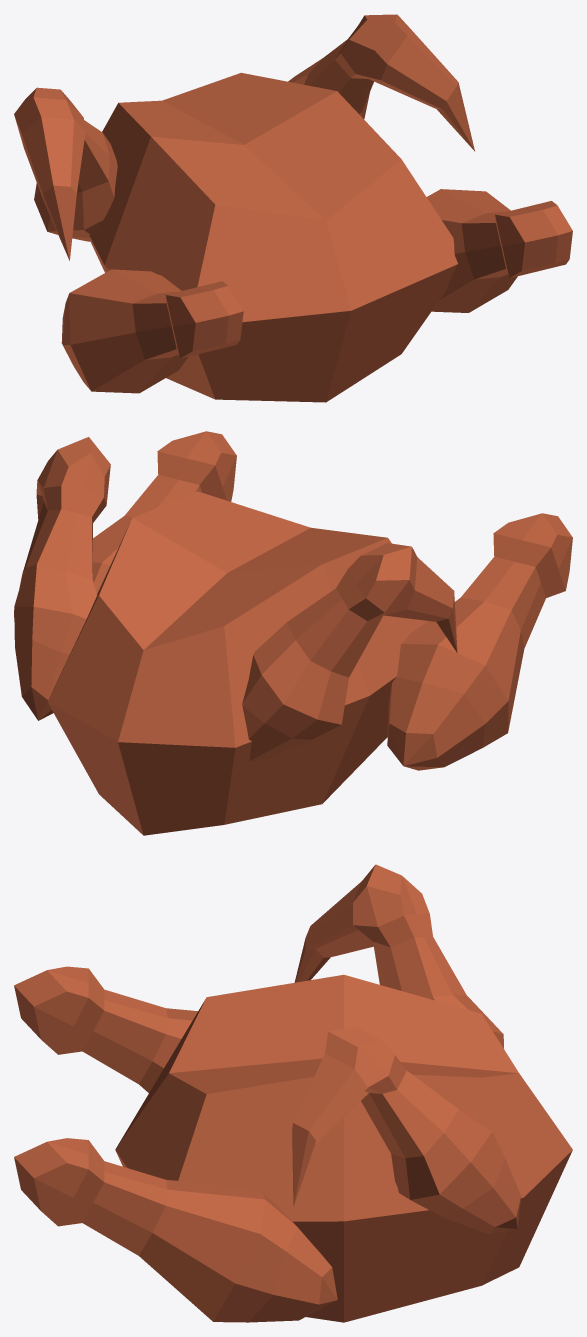
Rendered from Cooked Chicken.fbx.
The picture shows the model from 3 angles, top to bottom: view 1: azimuth 30°, elevation 25°; view 2: azimuth 150°, elevation 25°; view 3: azimuth 270°, elevation 25°; orthographic projection. The views are drawn at different scales.
Parts seen in each view (by area): view 1: Cooked Chicken; view 2: Cooked Chicken; view 3: Cooked Chicken.
Boxes of the visible parts, left/top/right/bottom form: Cooked Chicken: left=14, top=14, right=572, bottom=402; Cooked Chicken: left=14, top=431, right=572, bottom=835; Cooked Chicken: left=14, top=864, right=572, bottom=1322.
Bounding box in the file's own units: 25.32 × 17.19 × 26.12.
